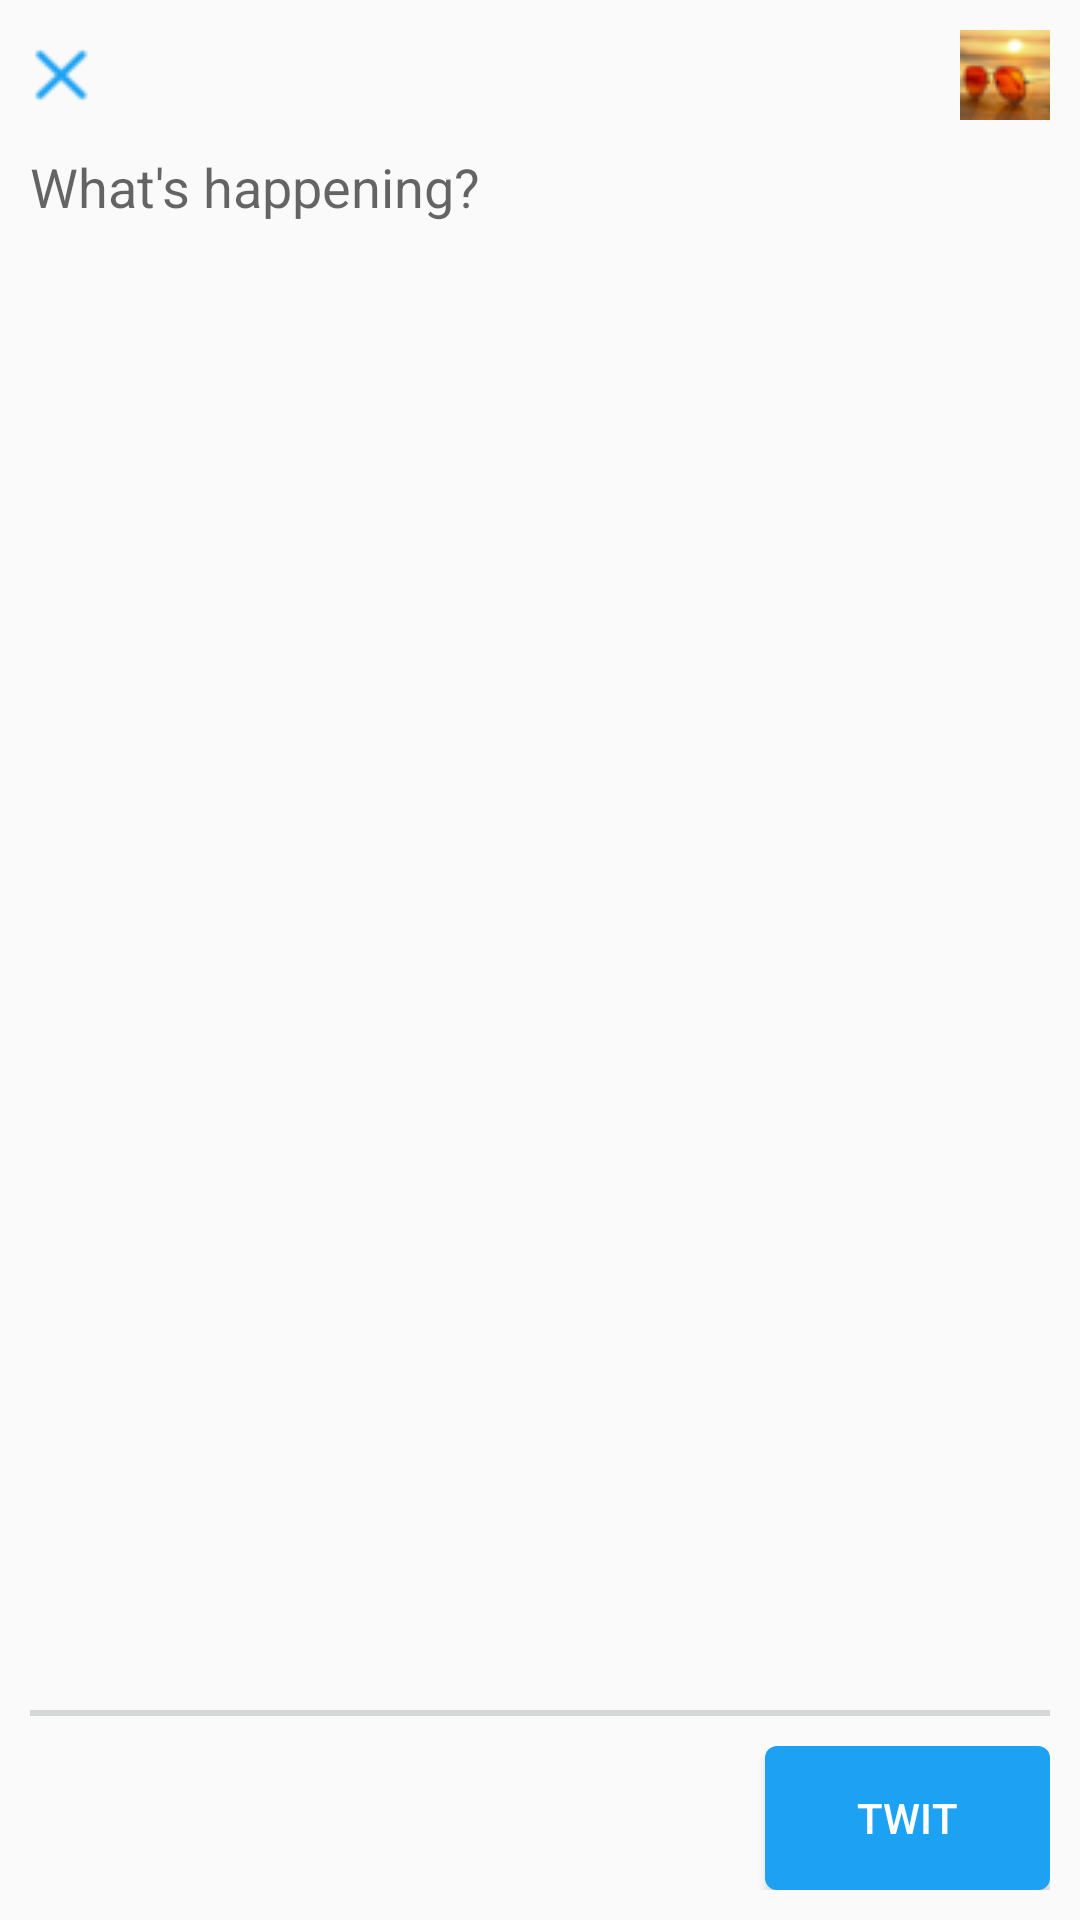

Screen size 1080 × 1920. Icon name, then its box in pixels as (x1, y1, x2, y2):
cancel: (35, 50, 88, 100)
